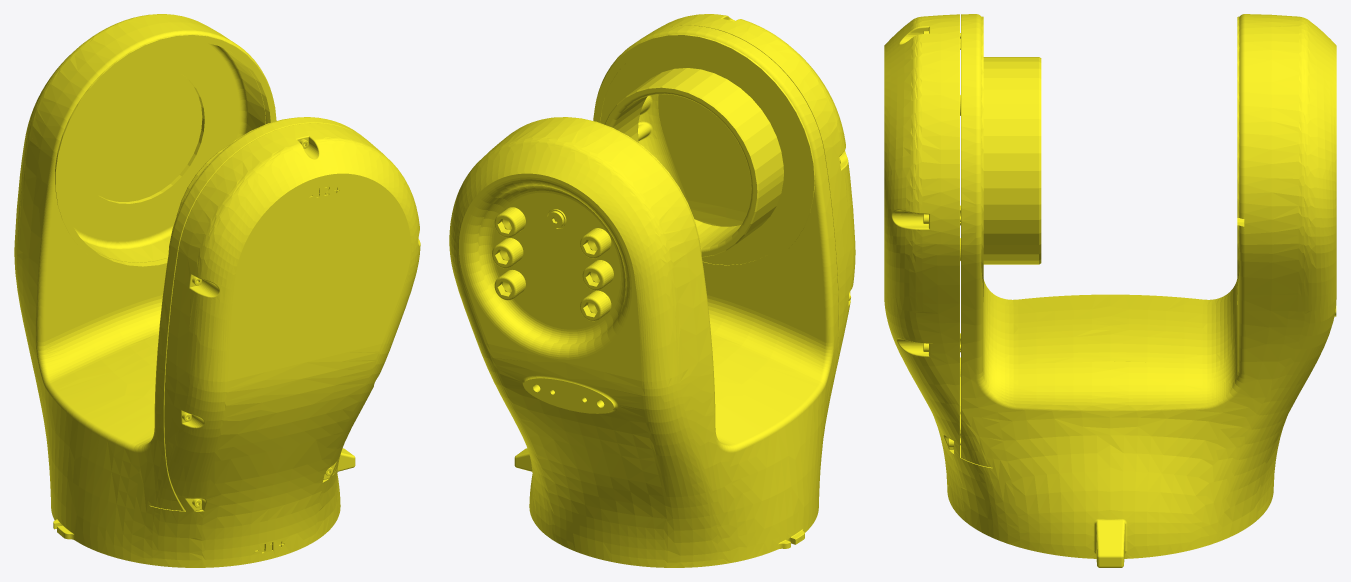
The picture shows the model from 3 angles, left to right: view 1: azimuth 30°, elevation 25°; view 2: azimuth 150°, elevation 25°; view 3: azimuth 270°, elevation 25°; orthographic projection. The views are drawn at different scales.
Parts seen in each view (by area): view 1: Link1; view 2: Link1; view 3: Link1.
Boxes of the visible parts, x1,y1,x2,y2 form: Link1: (14, 14, 420, 567); Link1: (449, 14, 855, 567); Link1: (884, 14, 1336, 567).
Bounding box in the file's own units: 0.268 × 0.3267 × 0.3875.
